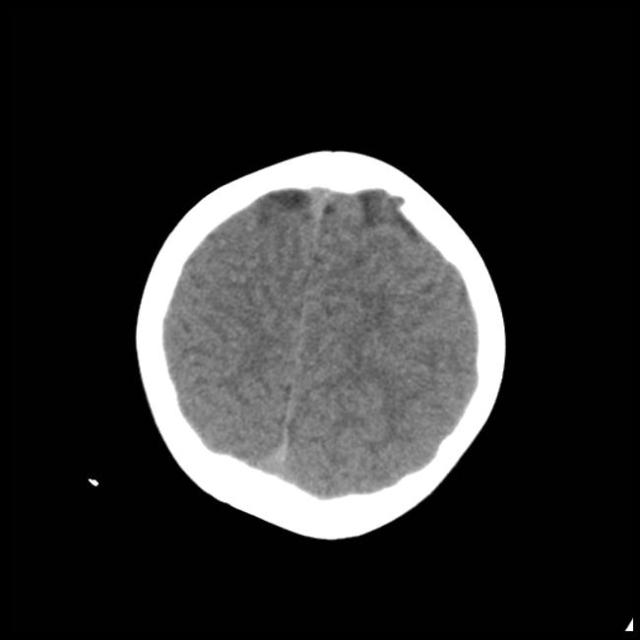lesion: (130, 145, 511, 542)
